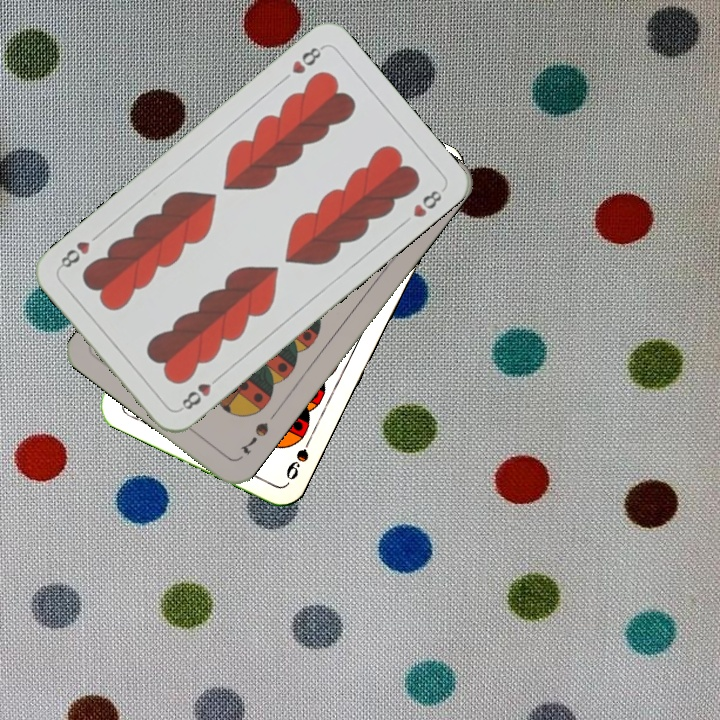H8: (176, 370, 224, 414), (287, 41, 327, 77)
S7: (236, 418, 272, 457)
S9: (281, 429, 316, 483)
